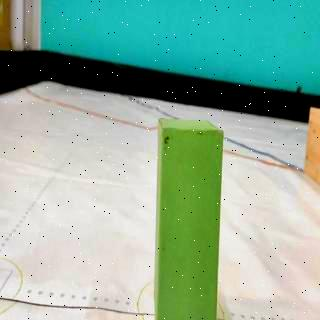greenbox: (154, 117, 226, 320)
